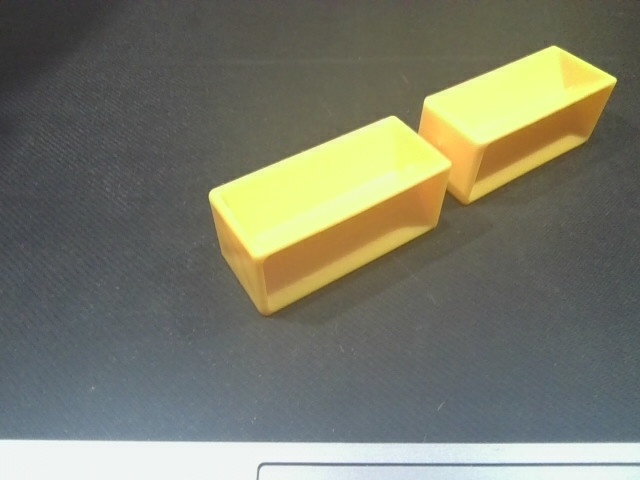YellowSample: (204, 110, 454, 320), (414, 42, 620, 208)
